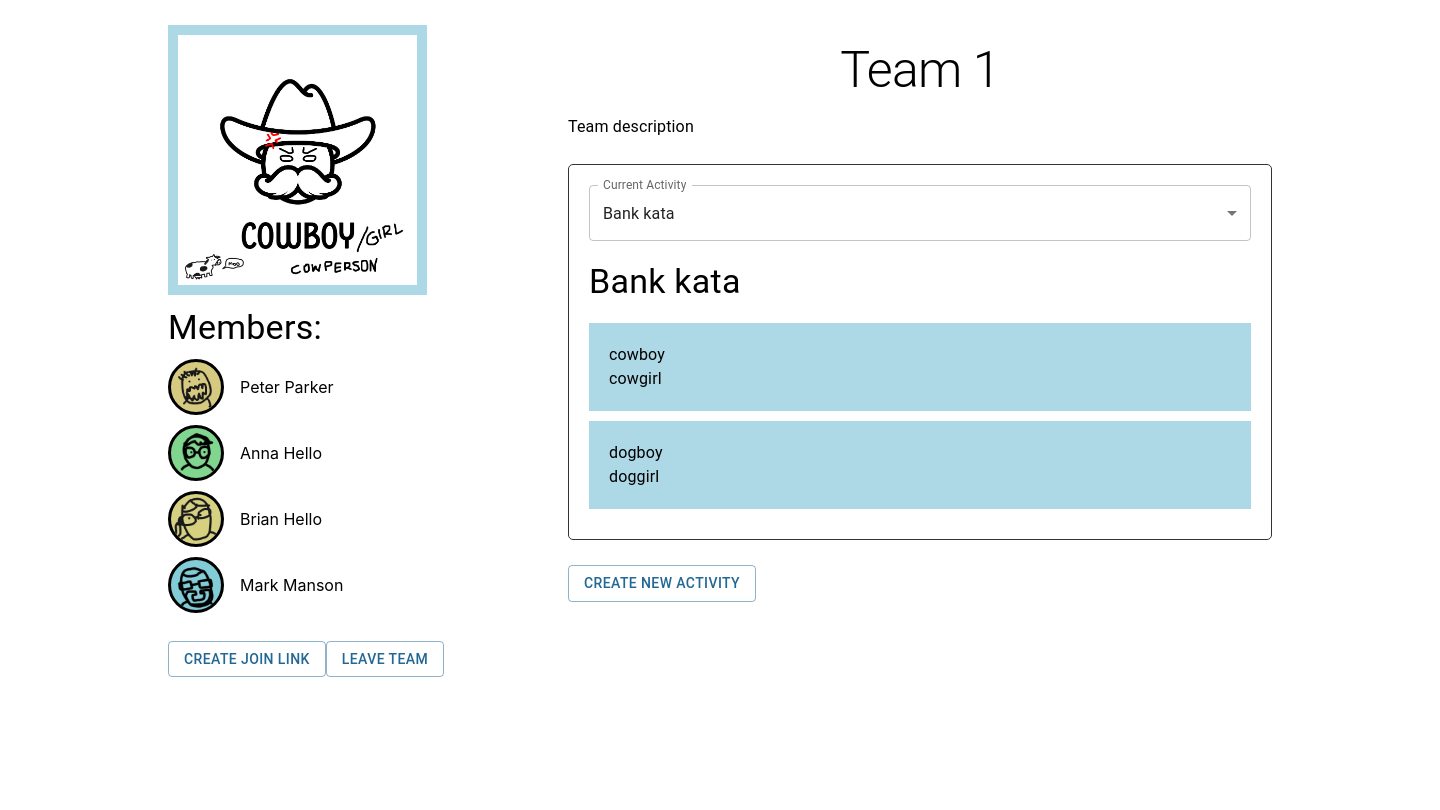
Test case: Team page should › Team page activity display should › display the activity name field at modal when you click create activity button
Click the button "create new activity" at (662, 584), box 568,565 -> 756,602
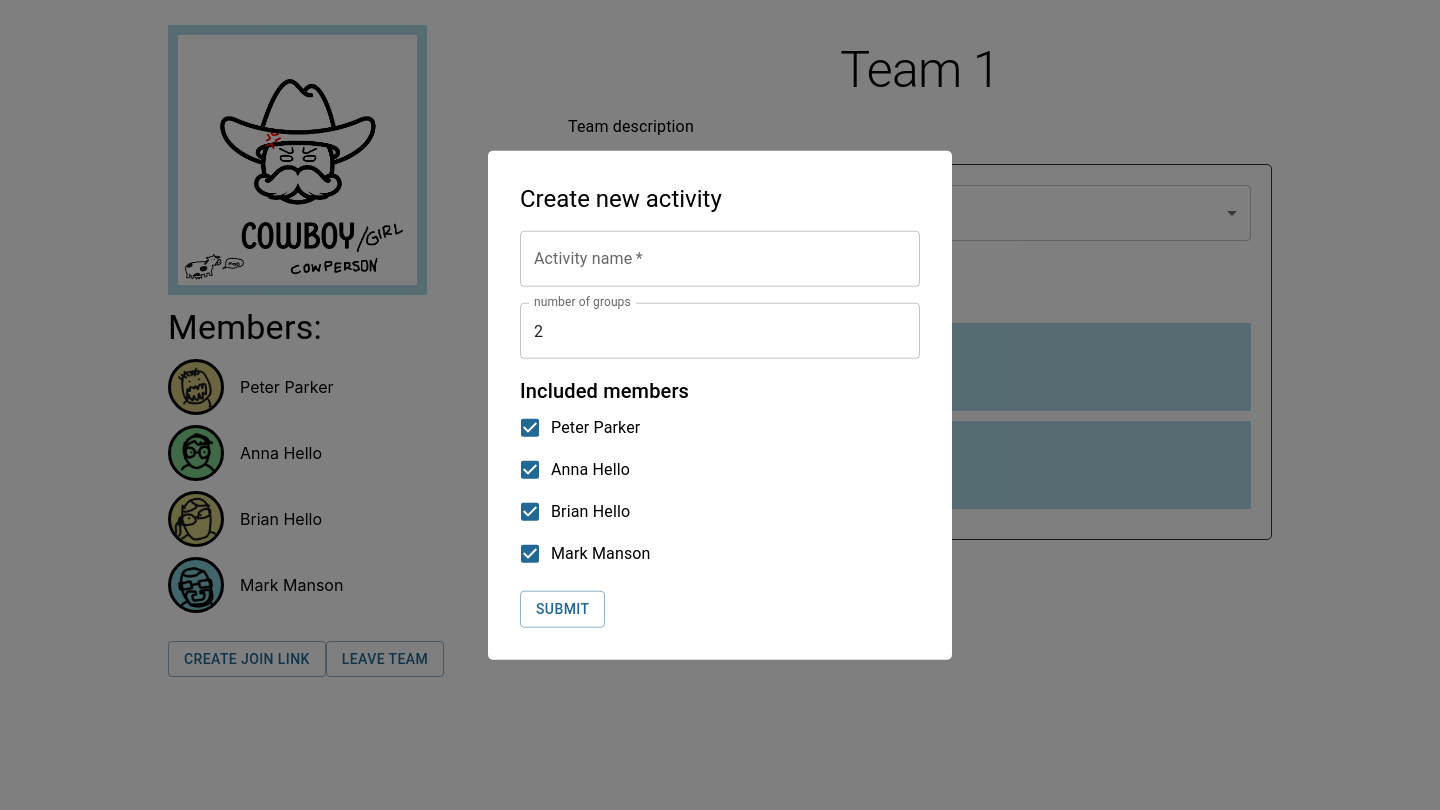
expect the field with test id "activity-name-field" is shown: met, box 520,231 -> 920,287
